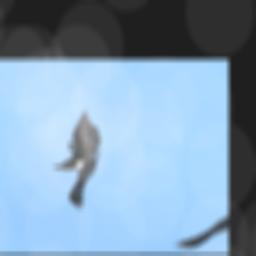Crow: (14, 109, 154, 211)
